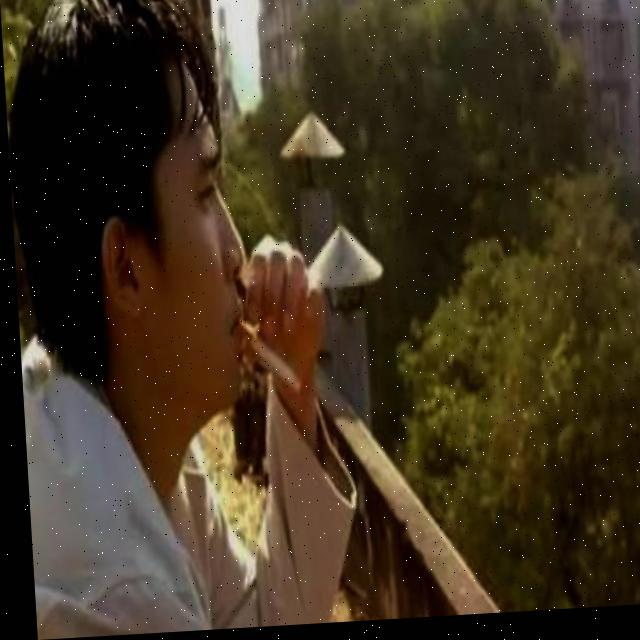cigarette: (235, 322, 296, 401)
